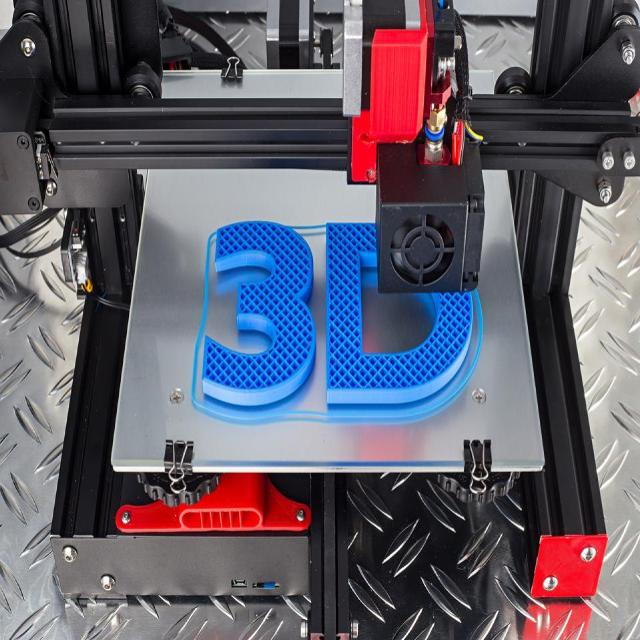Without deffect: (181, 204, 482, 425)
